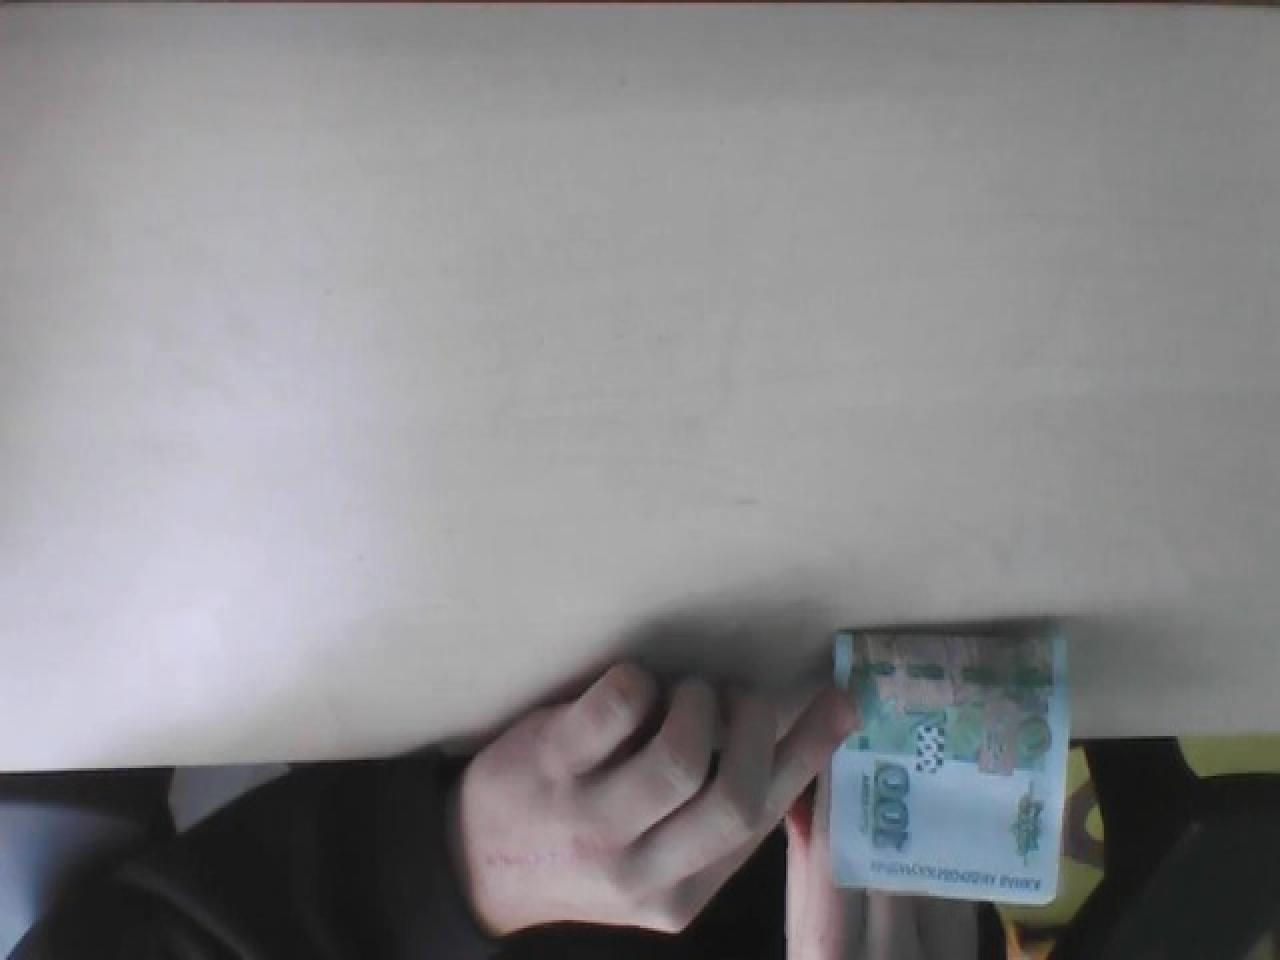100leva: (824, 626, 1072, 906)
